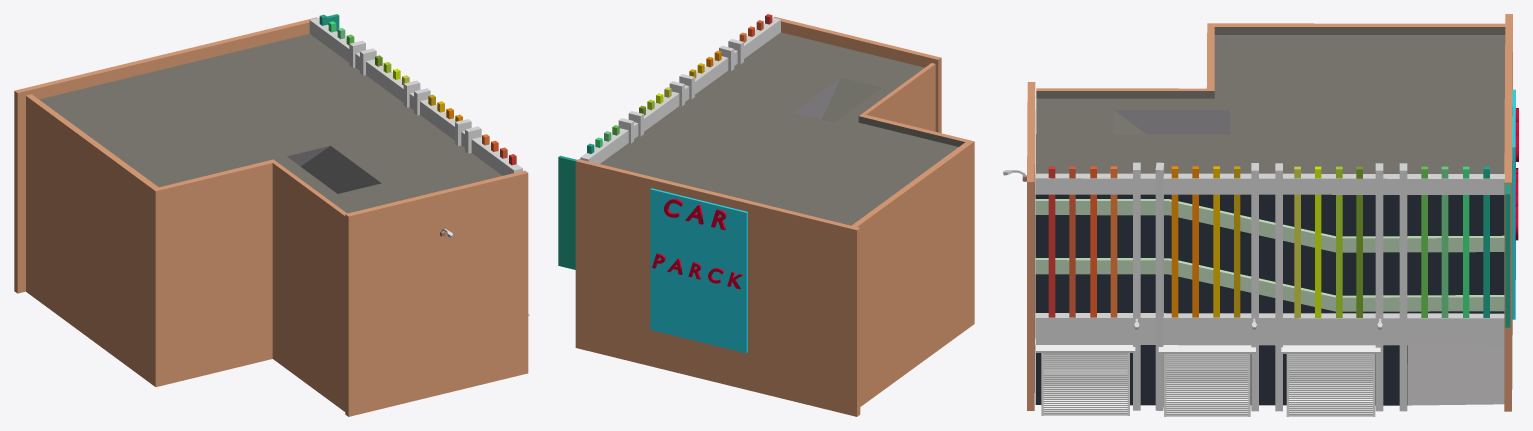
The model's file is Car_Park_tran.glb.
The picture shows the model from 3 angles, left to right: view 1: azimuth 30°, elevation 25°; view 2: azimuth 150°, elevation 25°; view 3: azimuth 270°, elevation 25°; orthographic projection. The views are drawn at different scales.
Visible parts, largest first — view 1: Cube.1534, Cube.1527, Cube.1526, Cube.1542, Cube.1553; view 2: Cube.1534, Cube.1526, Cube.019, Cube.1542, Cube.1527, Cube.1555, Cube.1553, Text.018, Text.017; view 3: Cube.1534, Cube.1553, Cube.1541, Cube.1542, Shutter_4.005, Shutter_4.006, Shutter_4.004, Cube.1536, Cube.1535, Cube.1526, Cube.1527, Cube.1533 (+7 smaller).
Part boxes in pixels (x1,y1,x2,y2): Cube.1534: [26, 34, 502, 411]; Cube.1527: [345, 170, 528, 416]; Cube.1526: [14, 17, 317, 293]; Cube.1542: [309, 18, 522, 175]; Cube.1553: [319, 14, 516, 165]; Cube.1534: [600, 32, 974, 406]; Cube.1526: [575, 159, 860, 416]; Cube.019: [650, 188, 747, 353]; Cube.1542: [580, 17, 780, 163]; Cube.1527: [773, 16, 941, 133]; Cube.1555: [558, 155, 576, 269]; Cube.1553: [587, 14, 772, 153]; Text.018: [652, 253, 743, 289]; Text.017: [664, 199, 726, 230]; Cube.1534: [1035, 23, 1505, 405]; Cube.1553: [1048, 166, 1489, 317]; Cube.1541: [1035, 313, 1504, 345]; Cube.1542: [1035, 173, 1504, 194]; Shutter_4.005: [1281, 345, 1380, 416]; Shutter_4.006: [1036, 345, 1135, 415]; Shutter_4.004: [1158, 345, 1255, 416]; Cube.1536: [1035, 258, 1504, 311]; Cube.1535: [1035, 199, 1504, 252]; Cube.1526: [1504, 14, 1512, 411]; Cube.1527: [1027, 82, 1035, 410]; Cube.1533: [1399, 163, 1407, 411].
Size of the model in its own units: 0.6112 by 0.393 by 0.7428.
